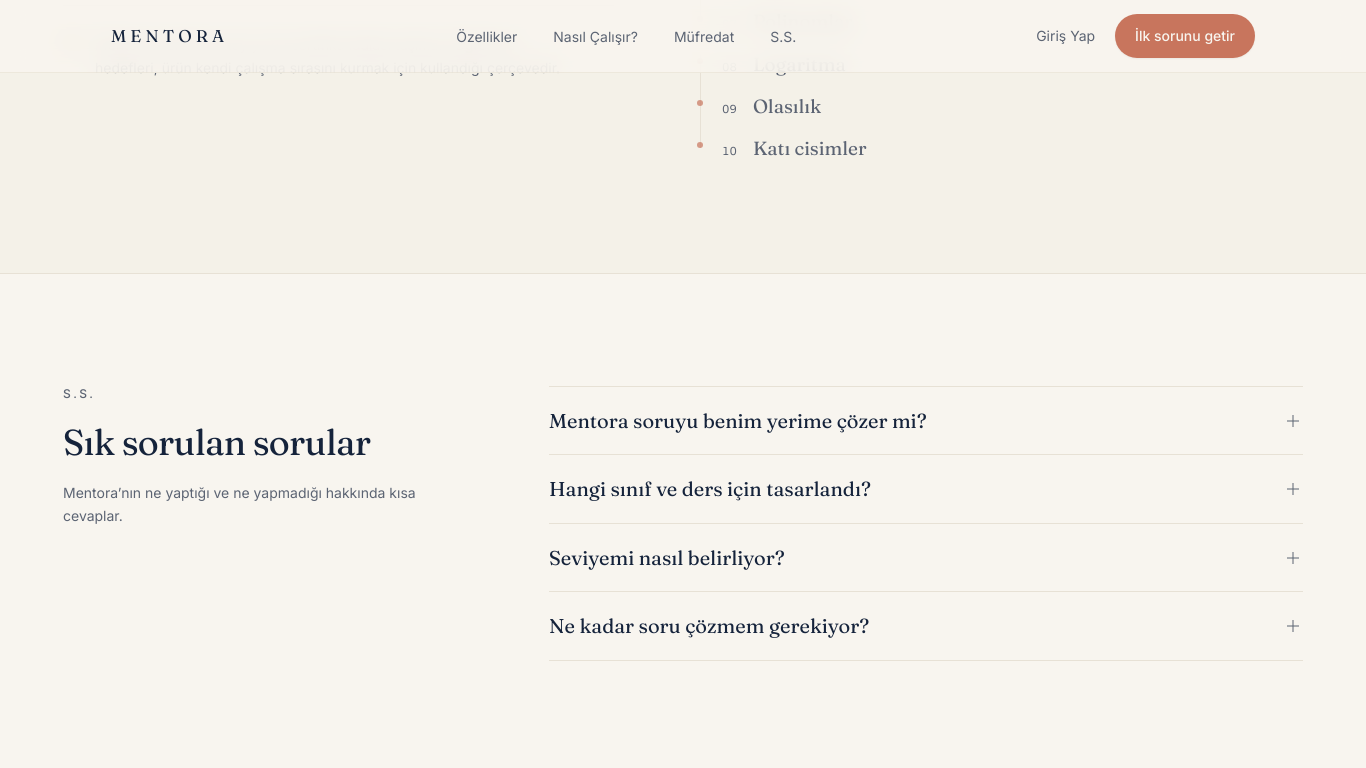
LandingPage › folds the FAQ answers behind their questions
(page scrolled)
Expected: the heading "Sık sorulan sorular" is shown, [63,420,370,464]
Click the button "Mentora soruyu benim yerime çözer mi?". click: {"x": 926, "y": 421}
box: [549,387,1303,454]
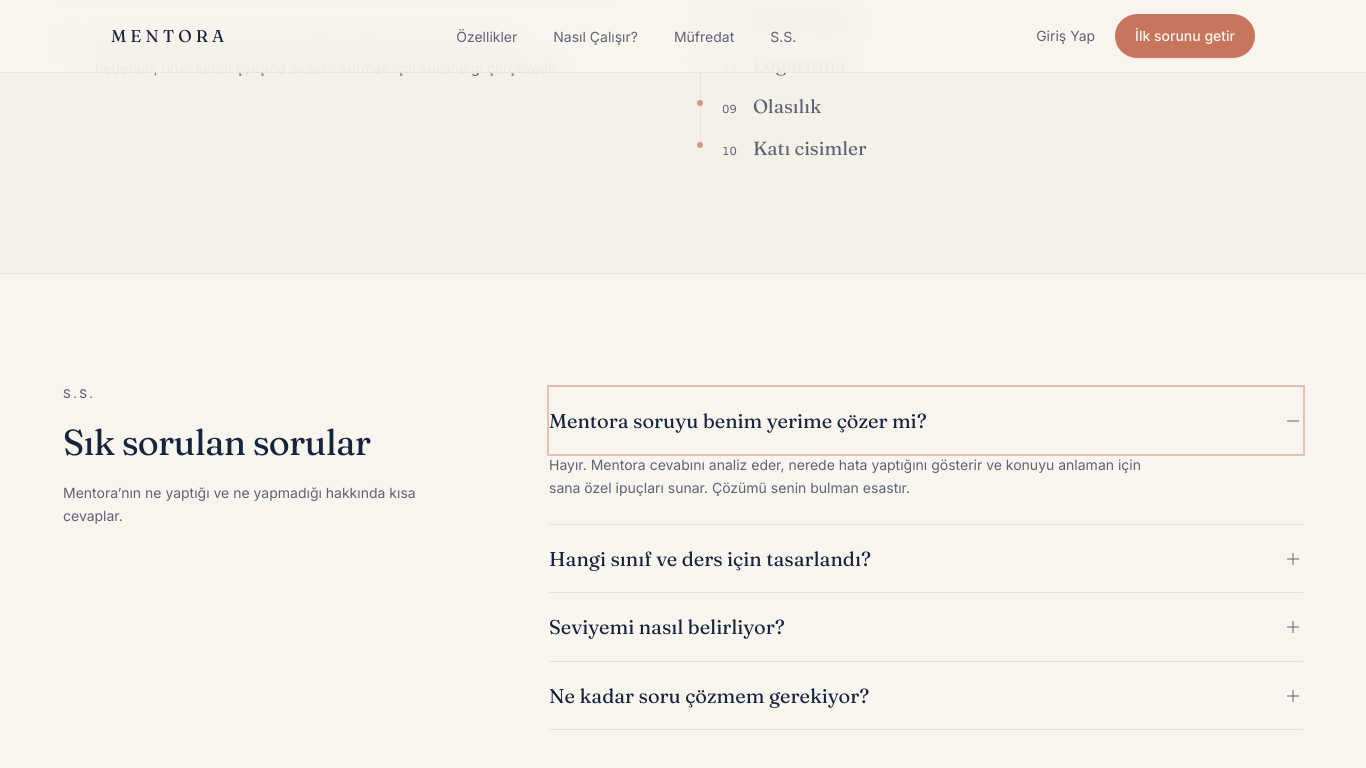
Expected: the text "Çözümü senin bulman esastır." is shown, [549,456,1141,496]
